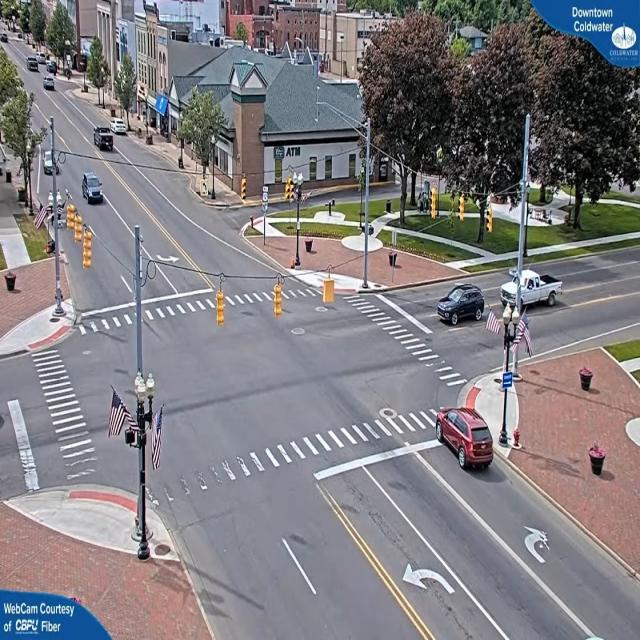car: (435, 406, 495, 472), (435, 282, 486, 326), (522, 270, 564, 312), (82, 174, 105, 205), (93, 127, 115, 151), (113, 120, 128, 137), (44, 78, 56, 92), (28, 59, 40, 72)
